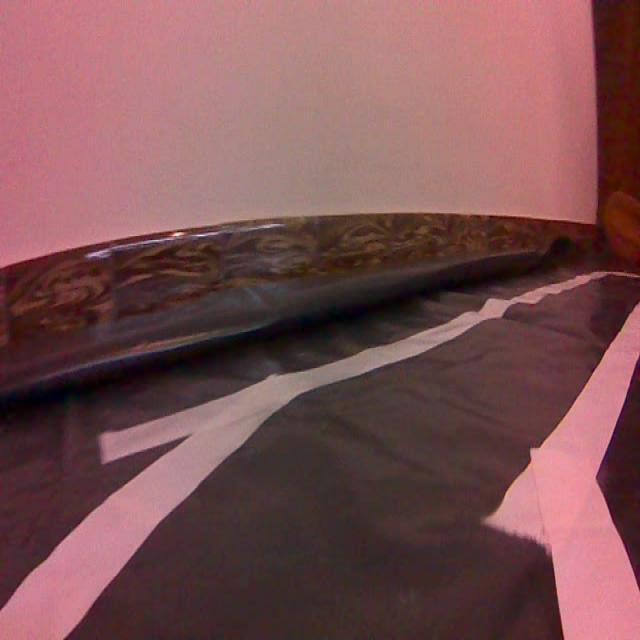LineaCarril: (0, 286, 560, 638), (531, 303, 640, 638), (488, 470, 535, 536)
